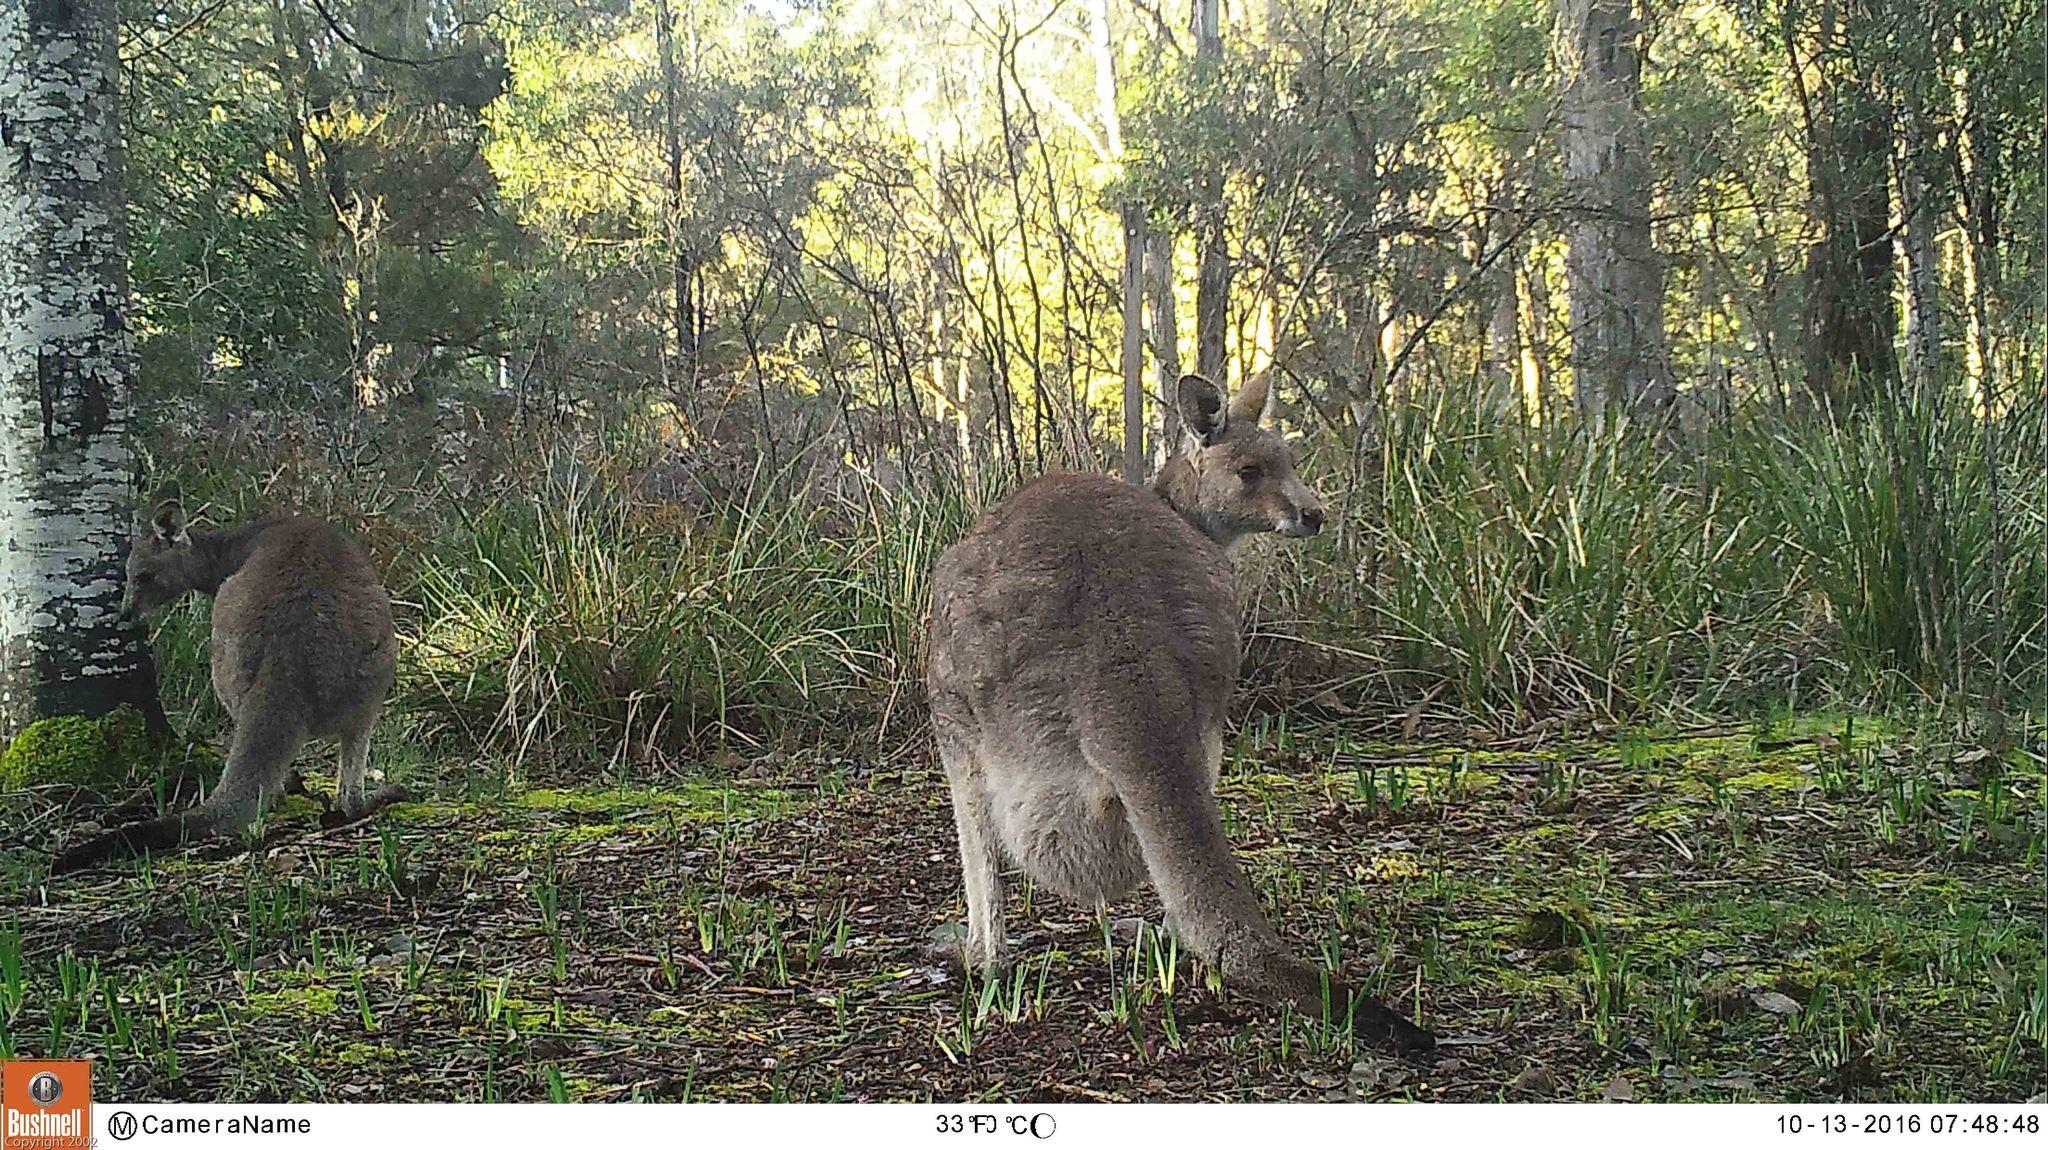Eastern grey kangaroo: (907, 367, 1453, 1080), (42, 478, 443, 880)
